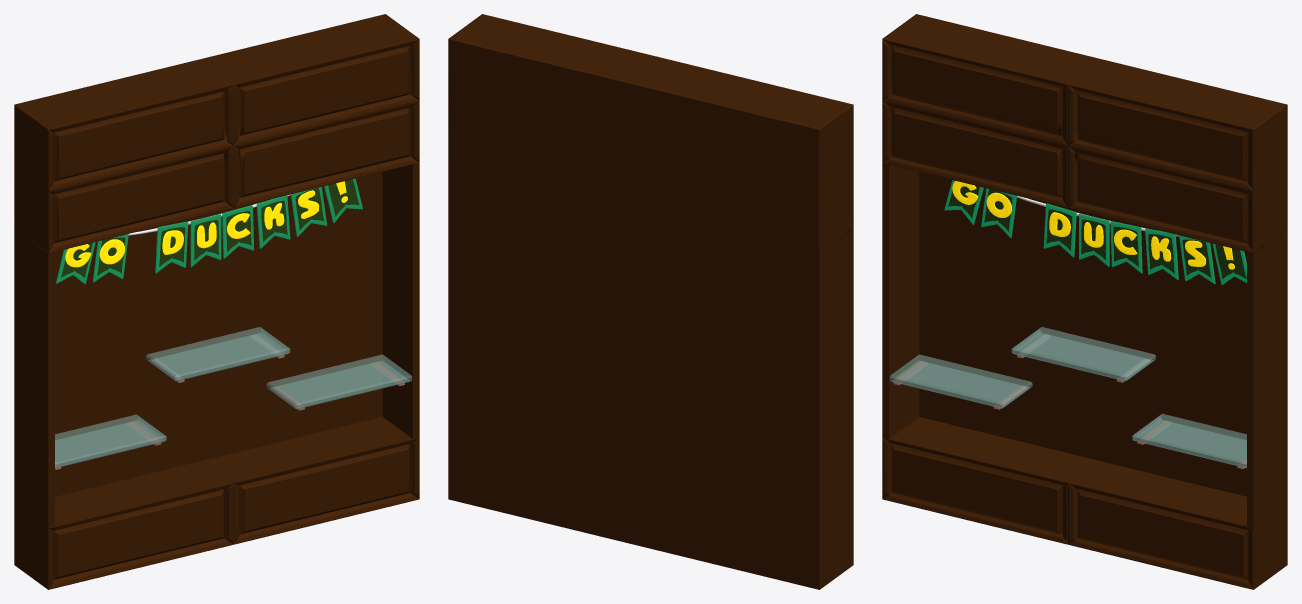
The model's file is TrophyCase.fbx.
3 views of the same model, side by side, from view 1: azimuth 30°, elevation 25°; view 2: azimuth 150°, elevation 25°; view 3: azimuth 330°, elevation 25° (orthographic).
Parts seen in each view (by area): view 1: pCube38, pCube44, GoDucks_, pCube47, pCube50, pCube49; view 2: pCube38, pCube44; view 3: pCube38, pCube44, GoDucks_, pCube50, pCube49, pCube47.
Boxes of the visible parts, x1,y1,x2,y2 form: pCube38: [14, 163, 419, 589]; pCube44: [14, 14, 419, 253]; GoDucks_: [56, 178, 362, 284]; pCube47: [266, 354, 412, 409]; pCube50: [146, 327, 290, 381]; pCube49: [55, 414, 166, 468]; pCube38: [448, 163, 853, 589]; pCube44: [448, 14, 853, 253]; pCube38: [882, 163, 1287, 589]; pCube44: [882, 14, 1287, 253]; GoDucks_: [944, 180, 1246, 285]; pCube50: [1011, 327, 1155, 381]; pCube49: [889, 354, 1032, 408]; pCube47: [1132, 413, 1246, 468].
Size of the model in its own units: 6.28 by 7.43 by 1.01.
